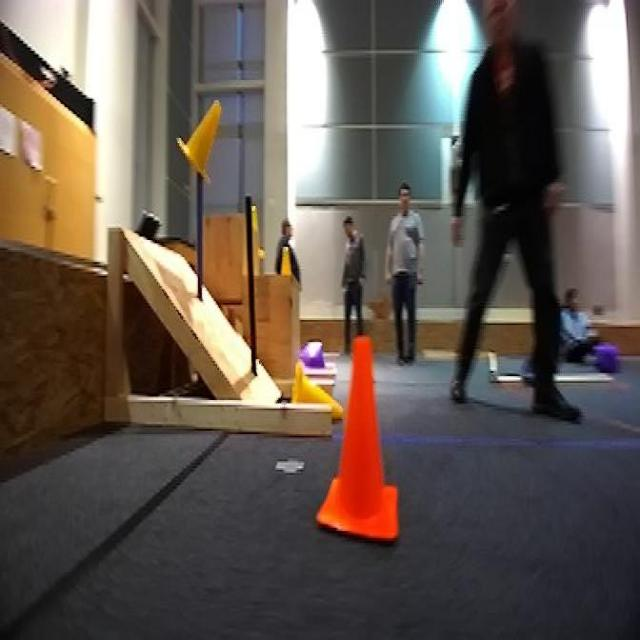frc_cone: (172, 94, 228, 185), (288, 361, 340, 420), (283, 242, 296, 277)
frc_cube: (590, 340, 619, 374), (305, 337, 324, 373)
